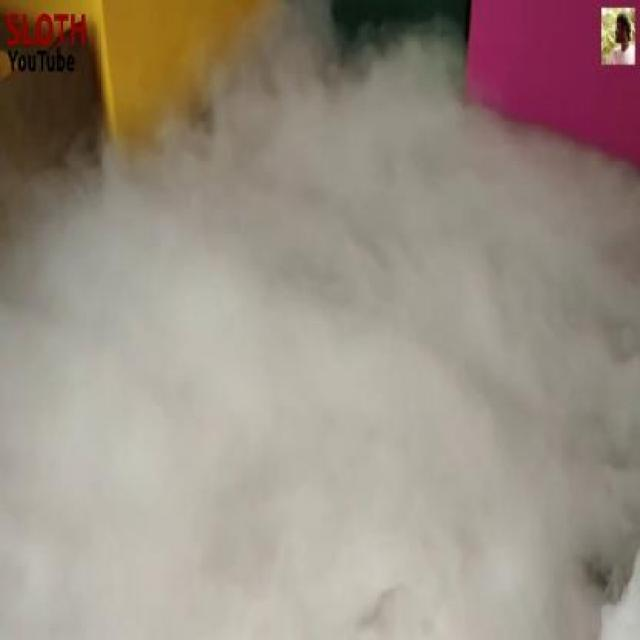smoke: (184, 257, 588, 554)
